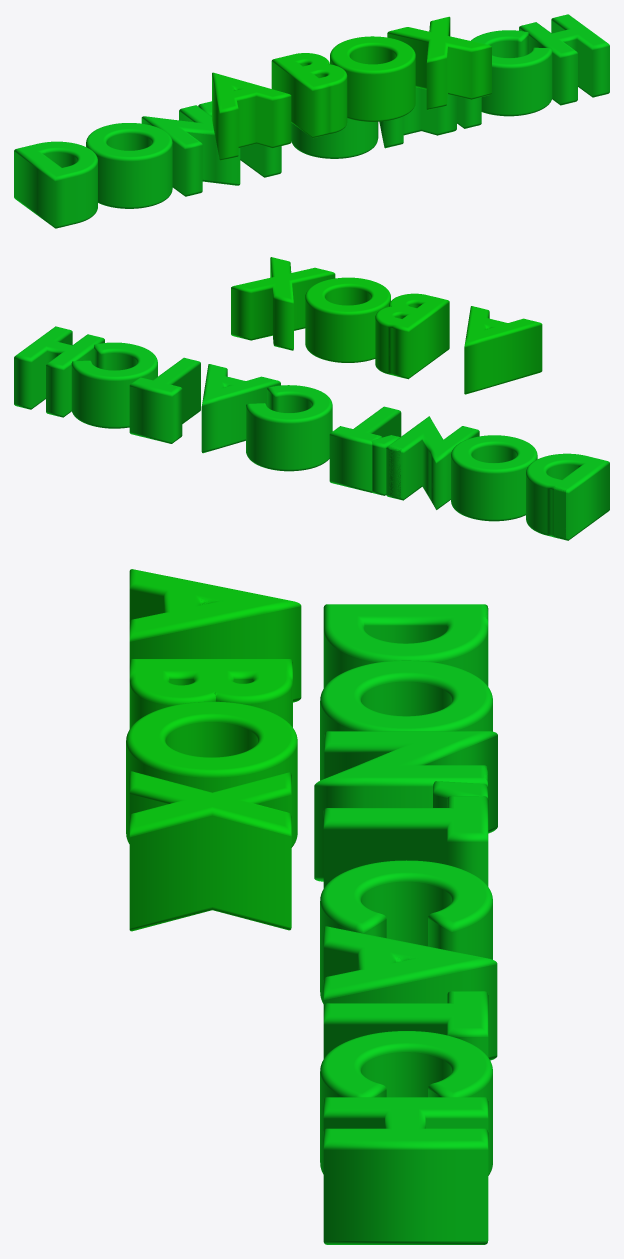
3 renders of one model, top to bottom at view 1: azimuth 30°, elevation 25°; view 2: azimuth 150°, elevation 25°; view 3: azimuth 270°, elevation 25°, orthographic. The views are drawn at different scales.
Parts seen in each view (by area): view 1: Text, Text.001; view 2: Text, Text.001; view 3: Text, Text.001.
Part boxes in pixels (left/top/right/bottom): Text: left=14, top=14, right=609, bottom=228; Text.001: left=212, top=16, right=491, bottom=160; Text: left=14, top=326, right=609, bottom=540; Text.001: left=231, top=257, right=542, bottom=394; Text: left=314, top=604, right=497, bottom=1244; Text.001: left=126, top=569, right=301, bottom=931.
Bounding box in the file's own units: 420 × 91.24 × 122.
